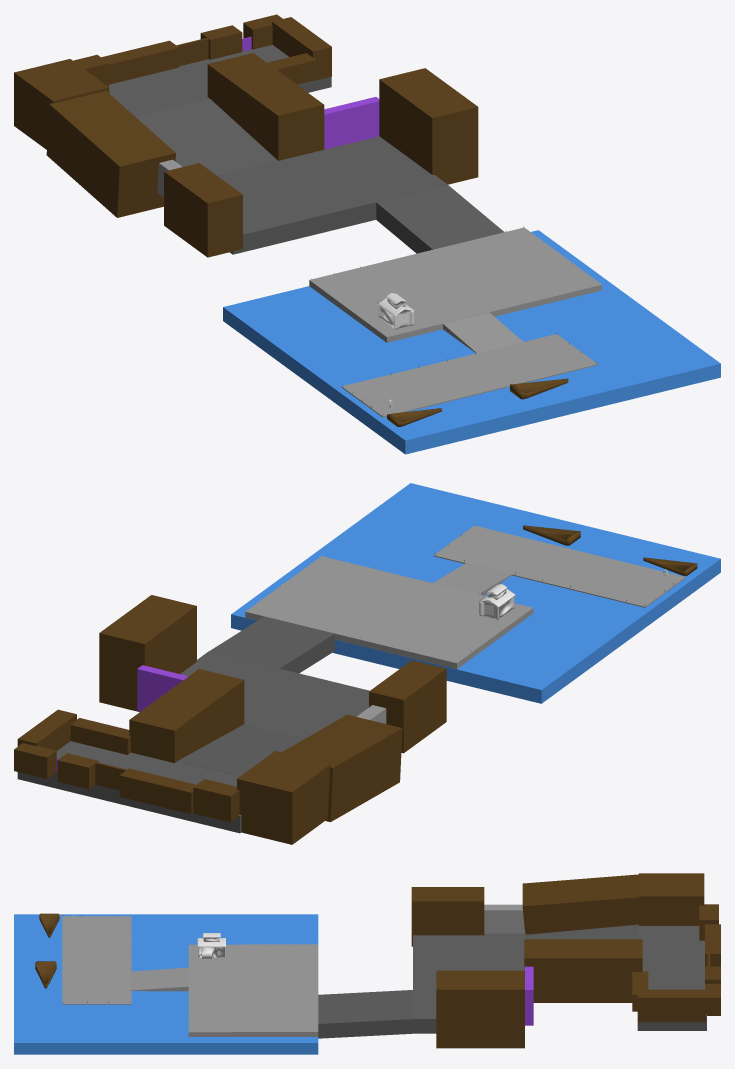
Rendered from Map.fbx.
The picture shows the model from 3 angles, top to bottom: view 1: azimuth 30°, elevation 25°; view 2: azimuth 150°, elevation 25°; view 3: azimuth 270°, elevation 25°; orthographic projection. The views are drawn at different scales.
Parts seen in each view (by area): view 1: Building.007; view 2: Building.007; view 3: Building.007.
Boxes of the visible parts, left/top/right/bottom form: Building.007: left=14, top=14, right=720, bottom=454; Building.007: left=14, top=483, right=720, bottom=844; Building.007: left=14, top=873, right=720, bottom=1054.
Size of the model in its own units: 69111 by 16809 by 155559.
